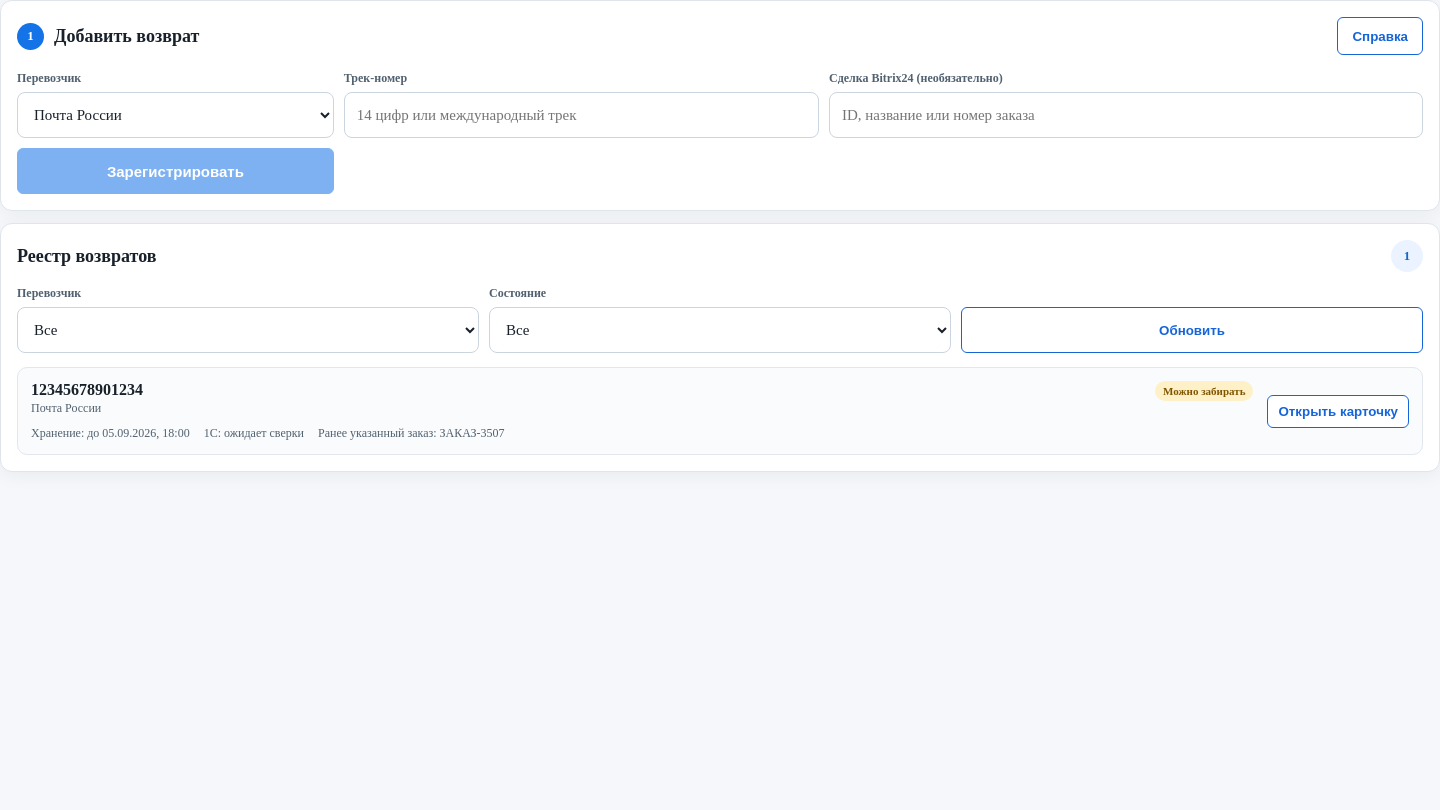
Test: CustomerReturnsWorkspace › привязывает сделку позднее из карточки возврата
Click the button "Открыть карточку". click: (1338, 411)
box: x1=1268 y1=394 x2=1409 y2=428
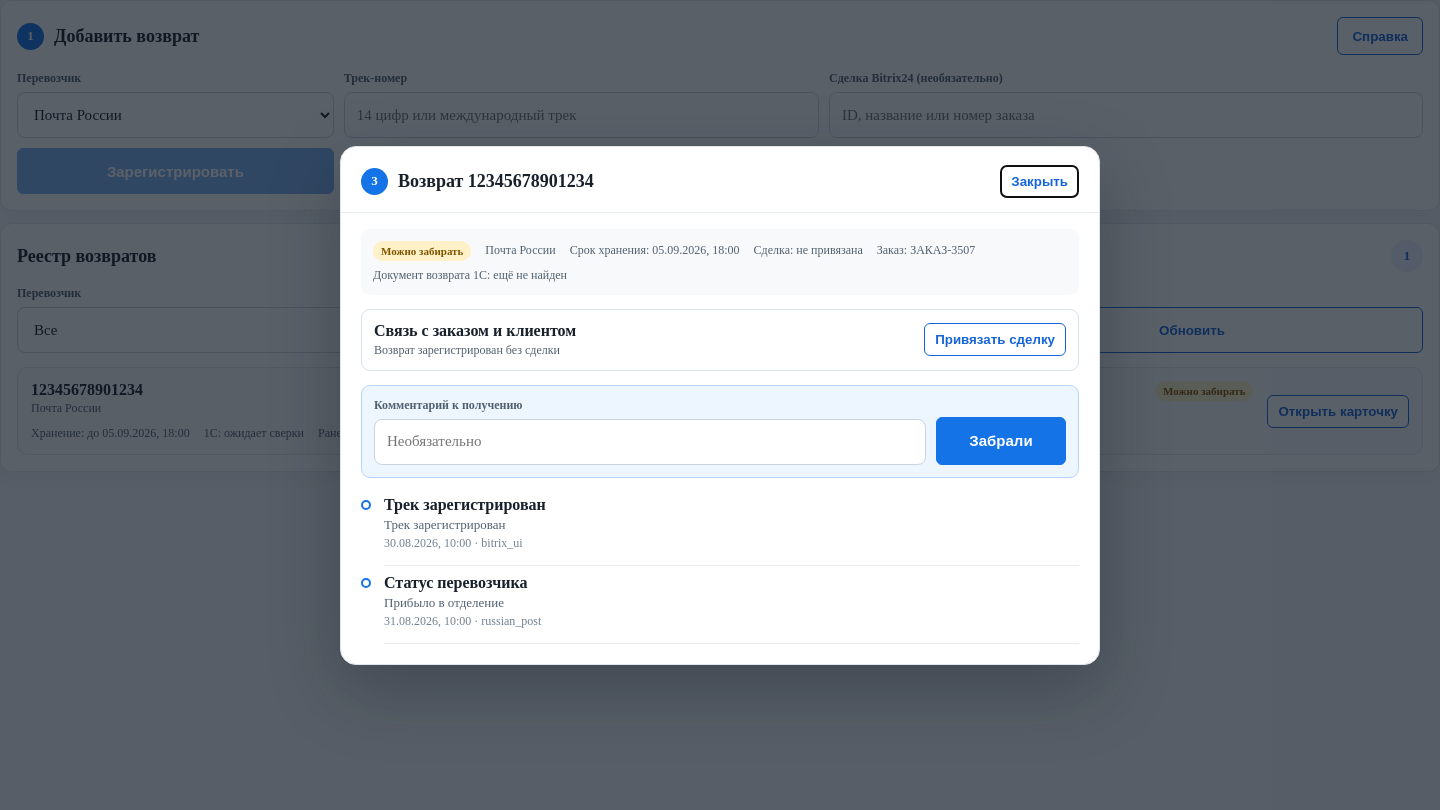
Click the button "Привязать сделку". click: (995, 340)
box: x1=924 y1=323 x2=1066 y2=356
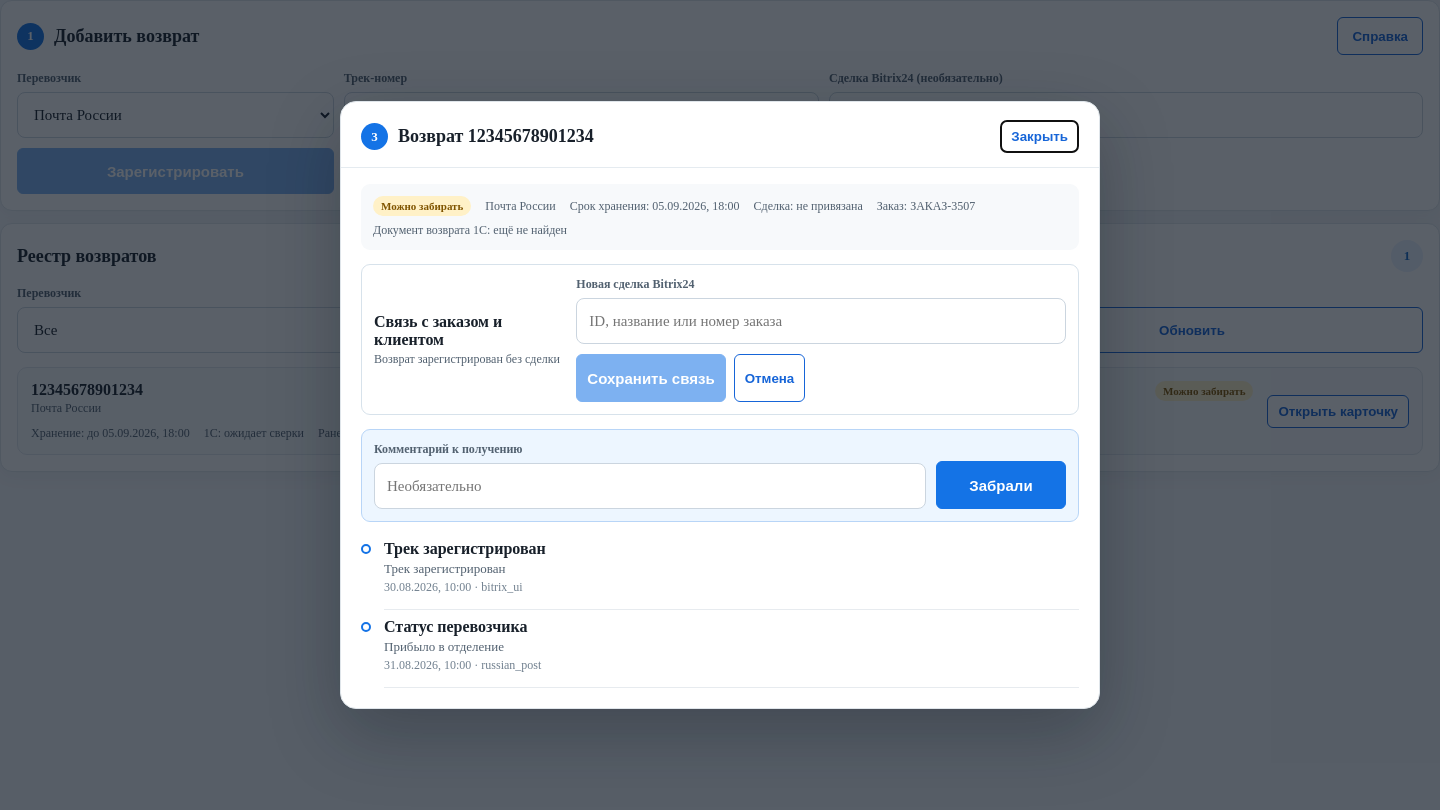
Type "241094" into the dropdown named "Новая сделка Bitrix24". click: (821, 321)
box: x1=576 y1=298 x2=1066 y2=344
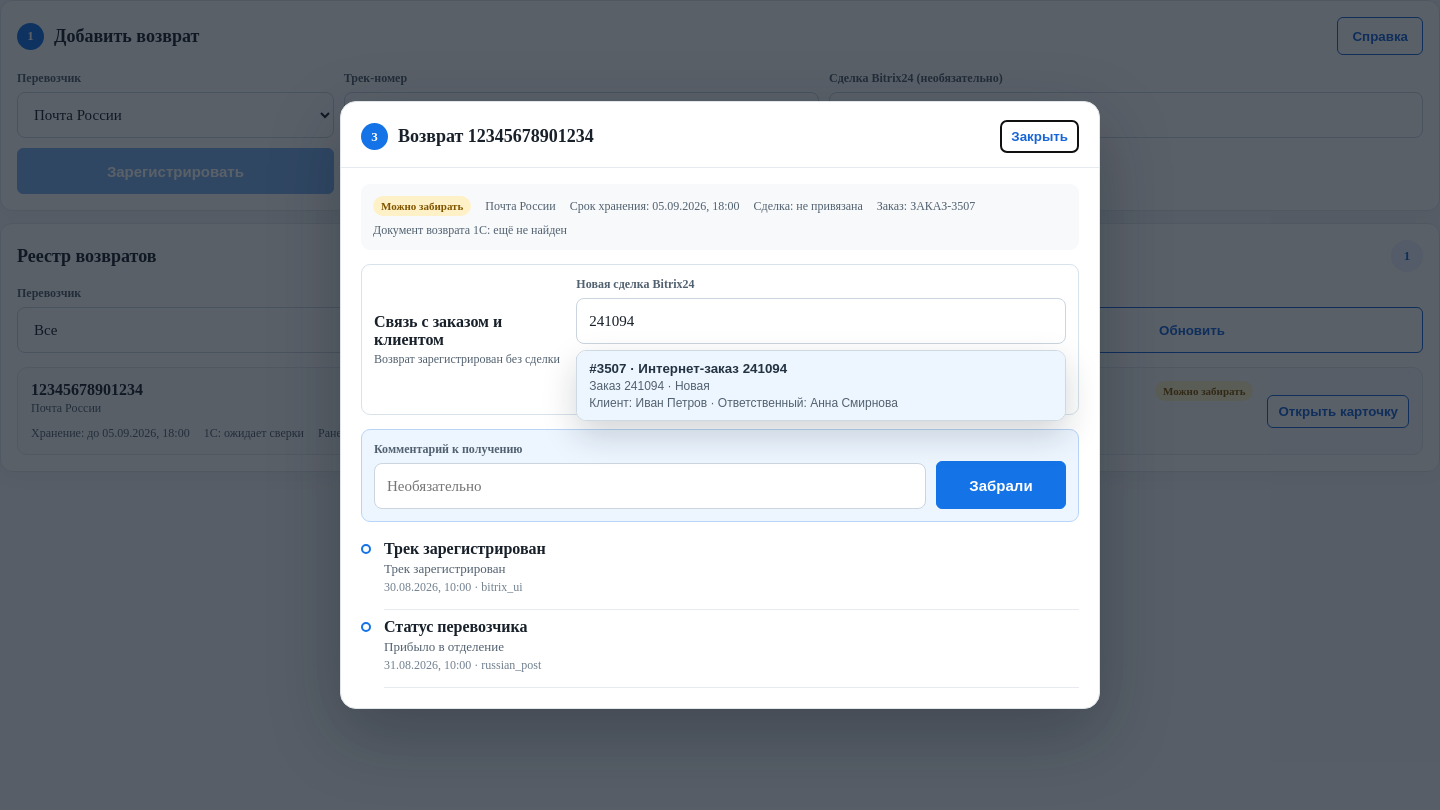
Click the option "Интернет-заказ 241094". click: (713, 368)
box: x1=577 y1=351 x2=1065 y2=420
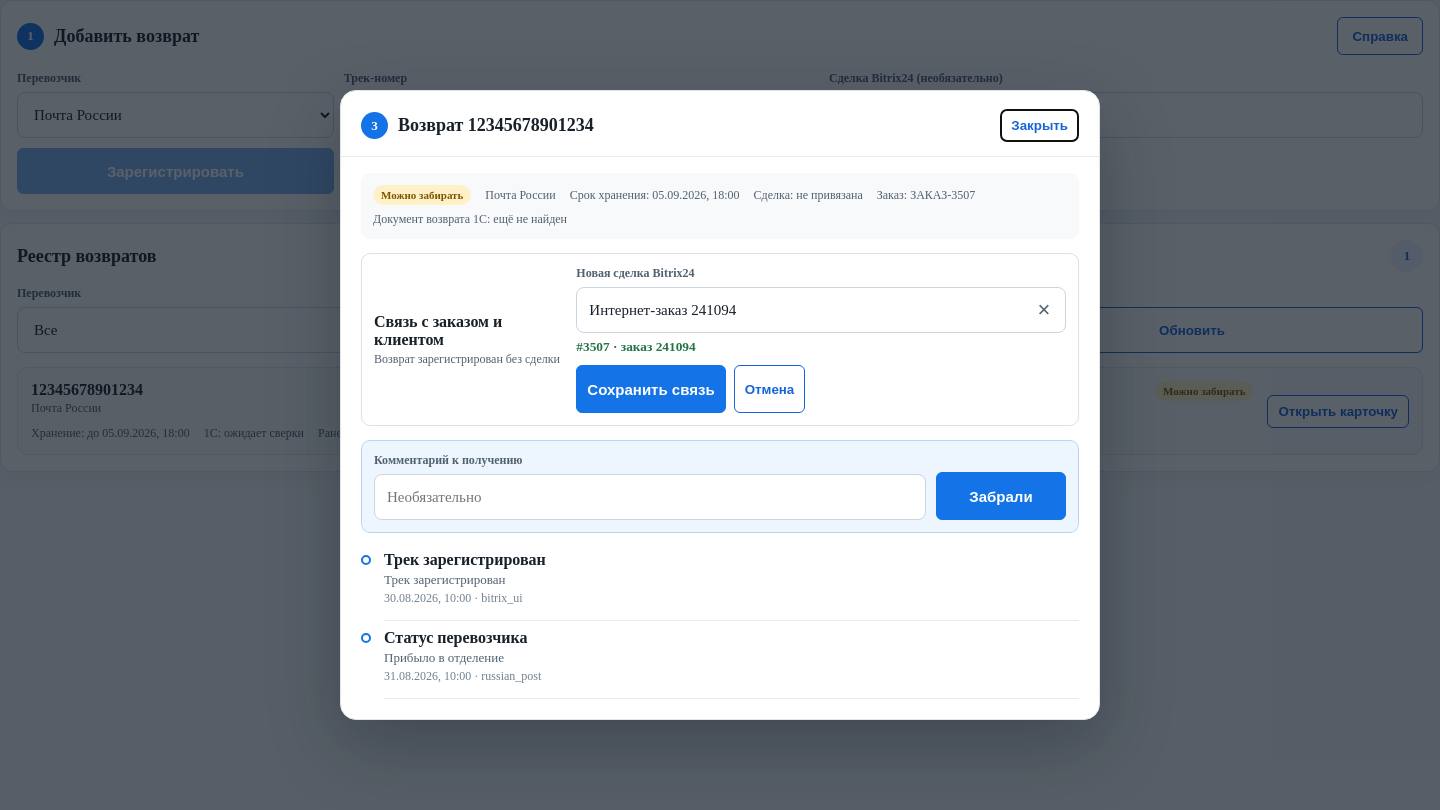
Click the button "Сохранить связь". click: (651, 389)
box: x1=576 y1=365 x2=726 y2=413
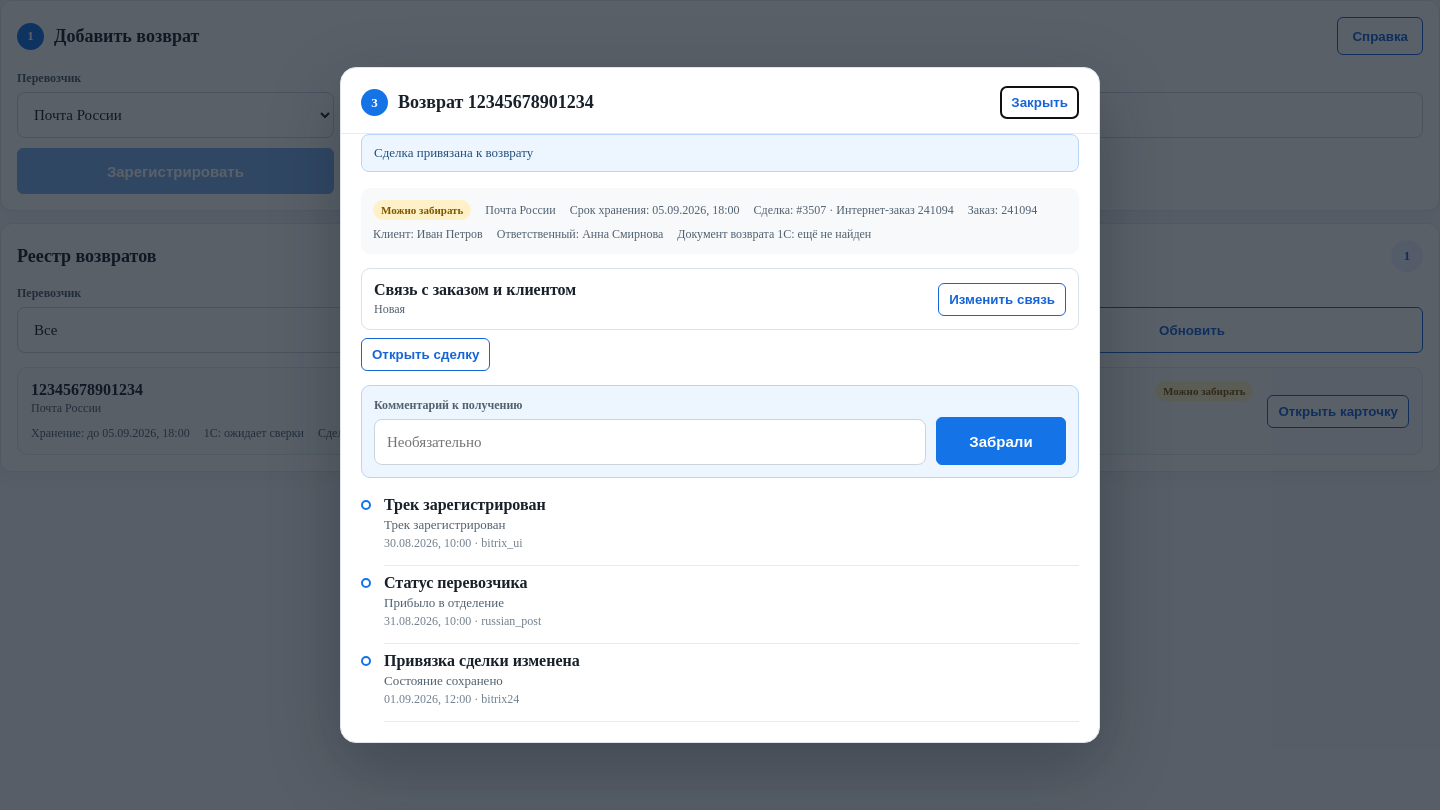
Expected: the text "Сделка привязана к возврату" is shown, x1=361 y1=134 x2=1079 y2=172
Expected: the text "Сделка: #3507 · Интернет-заказ 241094" is shown, x1=754 y1=202 x2=954 y2=218
Expected: the text "Клиент: Иван Петров" is shown, x1=373 y1=227 x2=483 y2=242
